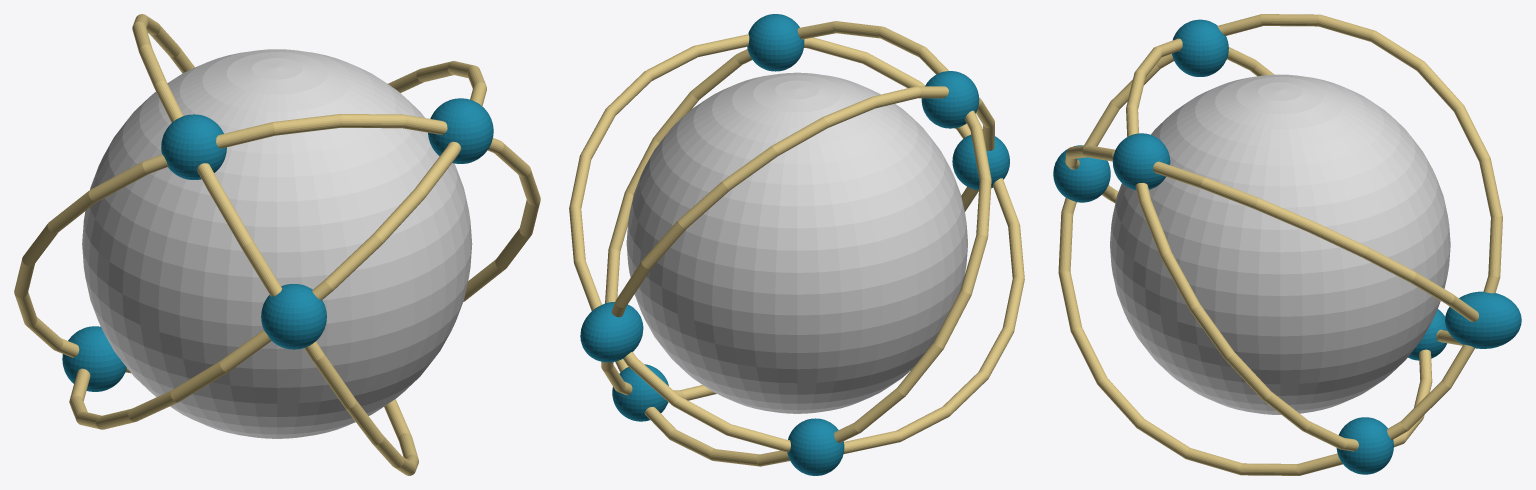
Rendered from IoT .glb.
3 renders of one model, left to right at view 1: azimuth 30°, elevation 25°; view 2: azimuth 150°, elevation 25°; view 3: azimuth 270°, elevation 25°, orthographic. The views are drawn at different scales.
Visible parts, largest first — view 1: Mesh_Mesh_head_geo.001_lambert2SG.001; view 2: Mesh_Mesh_head_geo.001_lambert2SG.001; view 3: Mesh_Mesh_head_geo.001_lambert2SG.001.
Part boxes in pixels (left/top/right/bottom): Mesh_Mesh_head_geo.001_lambert2SG.001: left=14, top=14, right=540, bottom=475; Mesh_Mesh_head_geo.001_lambert2SG.001: left=569, top=14, right=1024, bottom=475; Mesh_Mesh_head_geo.001_lambert2SG.001: left=1053, top=14, right=1521, bottom=475.
Size of the model in its own units: 47.52 by 42.29 by 48.8.
